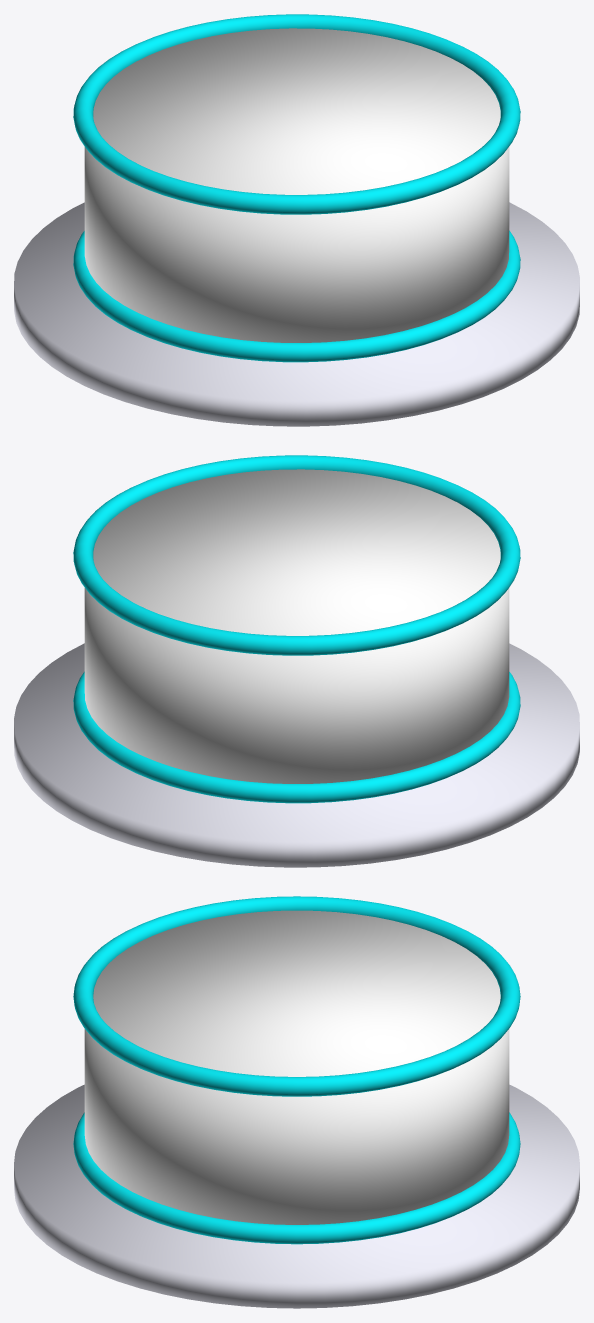
The model's file is round_vanilla.glb.
3 views of the same model, one above another, from view 1: azimuth 30°, elevation 25°; view 2: azimuth 150°, elevation 25°; view 3: azimuth 270°, elevation 25° (orthographic).
Visible parts, largest first — view 1: CakeBase, IcingStand, IcingRing, IcingRing.001; view 2: CakeBase, IcingStand, IcingRing, IcingRing.001; view 3: CakeBase, IcingStand, IcingRing, IcingRing.001.
Boxes of the visible parts, x1,y1,x2,y2 form: CakeBase: [84, 28, 509, 342]; IcingStand: [14, 202, 579, 426]; IcingRing: [73, 14, 520, 214]; IcingRing.001: [73, 230, 520, 362]; CakeBase: [84, 469, 509, 783]; IcingStand: [14, 643, 579, 867]; IcingRing: [73, 455, 520, 655]; IcingRing.001: [73, 671, 520, 803]; CakeBase: [84, 910, 509, 1224]; IcingStand: [14, 1084, 579, 1308]; IcingRing: [73, 896, 520, 1096]; IcingRing.001: [73, 1112, 520, 1244].
Bounding box in the file's own units: 4 × 1.57 × 4.
